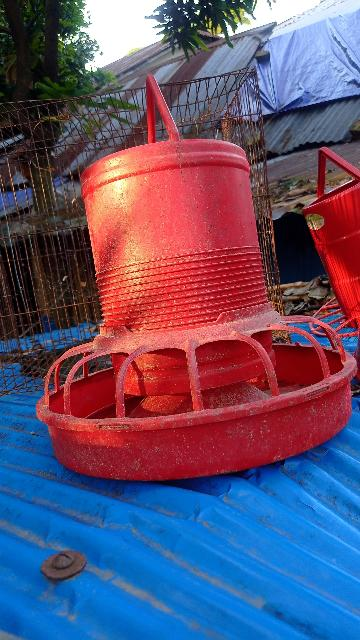hardplastic: (22, 115, 358, 466)
